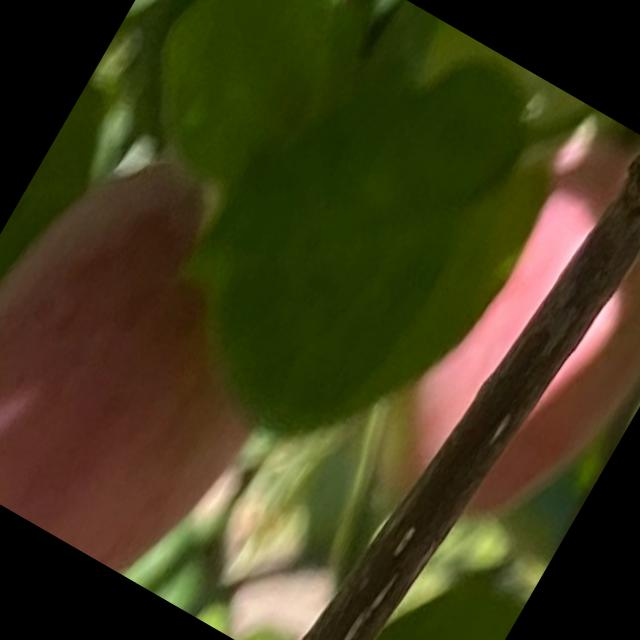Apples: (0, 123, 342, 593), (373, 122, 639, 552)
